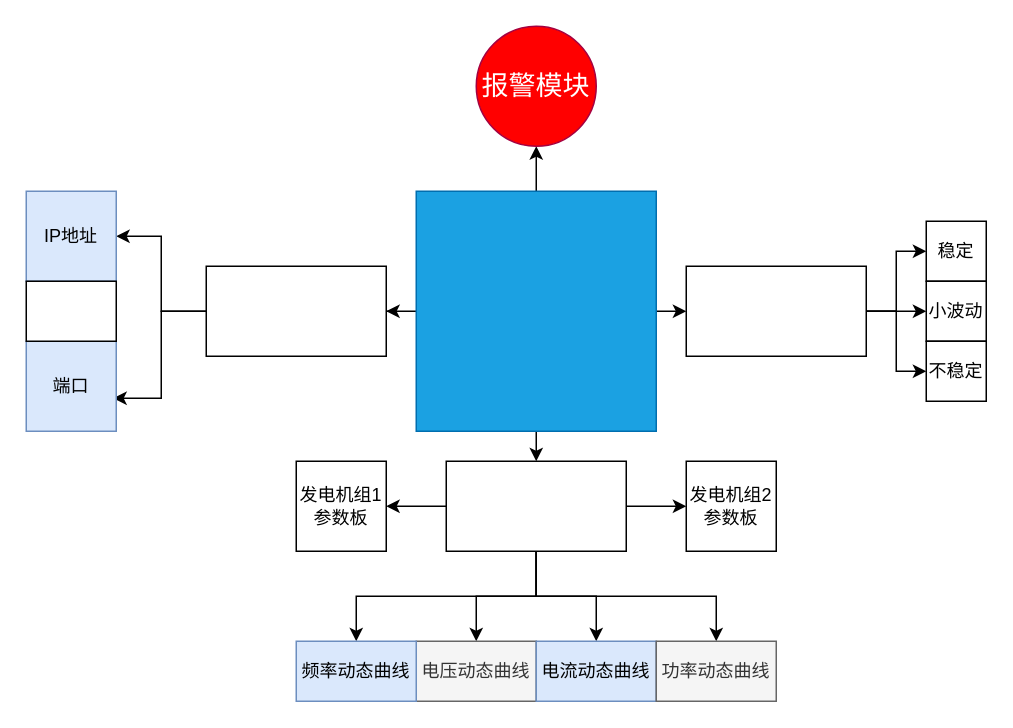
Some shapes in this 1013 by 728 pixel diagram are drawn without their labels. Each missing label, with the centre of its shape:
"Tcp客户端主界面" belongs at point 535,310.
"Tcp连接模块" belongs at point 295,310.
"工况模拟模块" belongs at point 775,310.
"状态显示模块" belongs at point 535,505.
"连接按钮" belongs at point 70,310.
